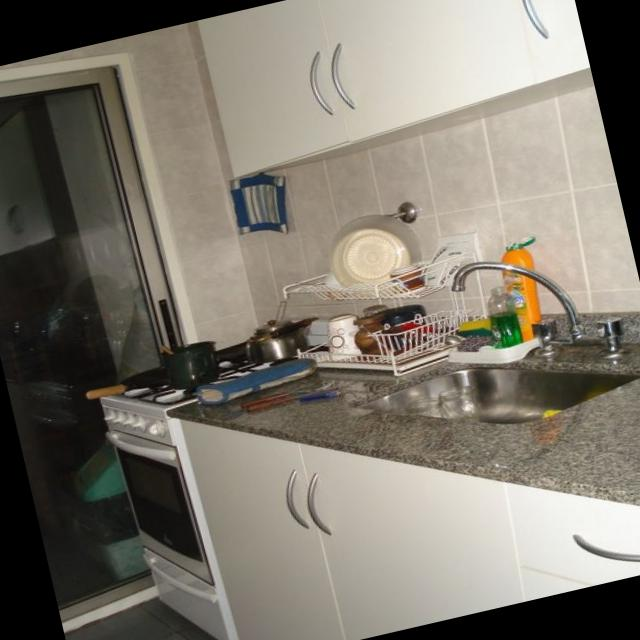Faucet: (452, 262, 584, 319)
Plate: (339, 224, 408, 283)
Stove: (100, 400, 227, 640)
closet crop: (182, 423, 640, 640)
cupboard crop: (195, 0, 589, 179)
dish towel: (487, 288, 526, 350)
glass doors: (0, 68, 185, 624)
handle bar: (574, 538, 640, 557), (331, 49, 352, 103), (288, 473, 305, 526), (308, 478, 324, 534), (526, 0, 546, 37), (314, 61, 328, 110)
mug: (331, 317, 362, 355)
oven door: (227, 170, 289, 235)
oven occluded: (194, 356, 313, 402)
pot hanger: (160, 341, 220, 391)
sink basin: (355, 362, 640, 422)
sponge cake: (459, 319, 489, 336)
tea pot: (244, 314, 320, 363)
